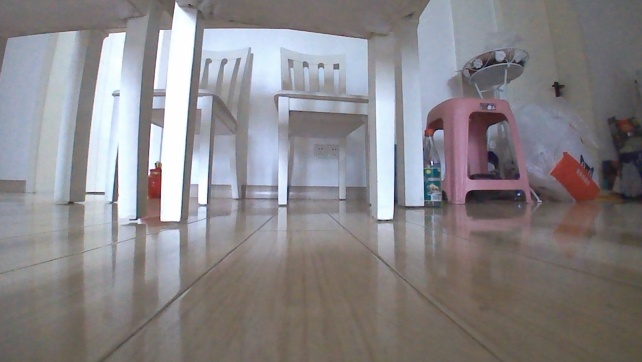dining_table1: (0, 0, 432, 227)
door_anno: (490, 0, 595, 135)
